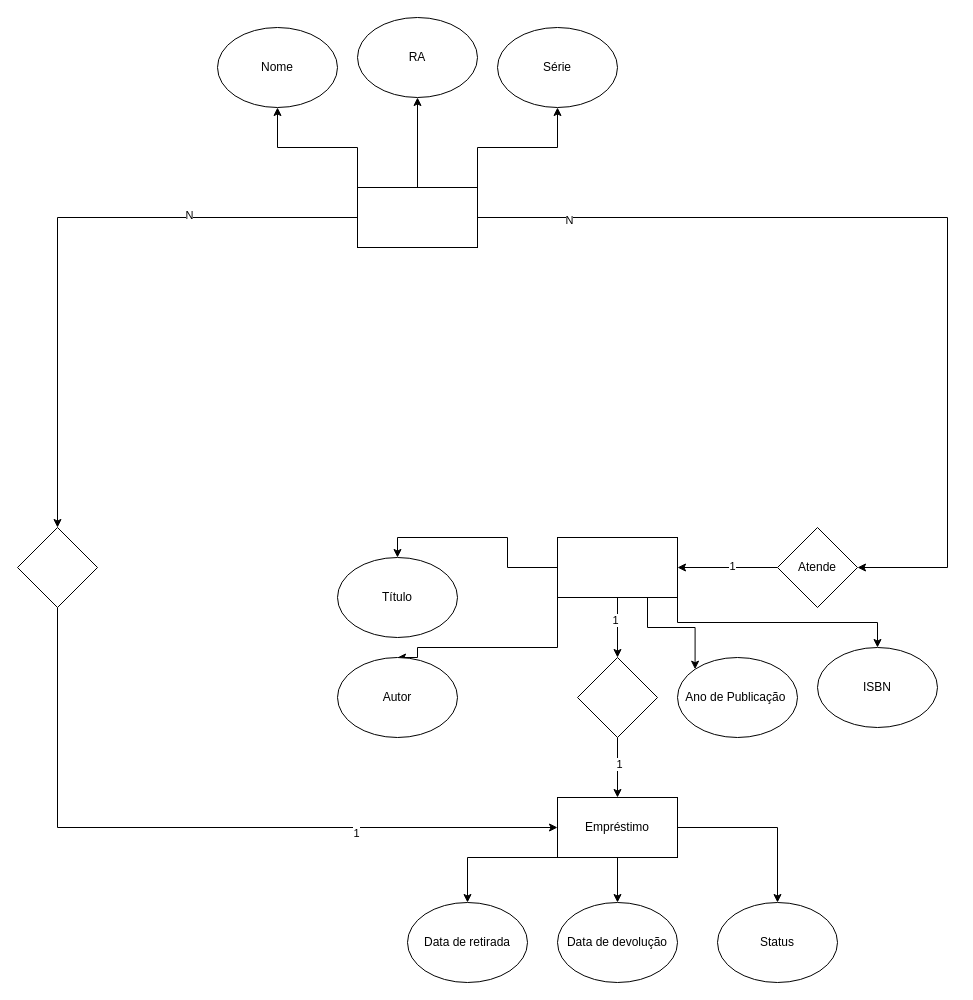
Image size: 973x1000. Some labels were removed from this diagram. Here are the shapes that lost their labels. From the top down, the centre of each, then its label:
At [417,217]: "Aluno".
At [57,567]: "Faz".
At [617,567]: "Livro".
At [617,697]: "São".
